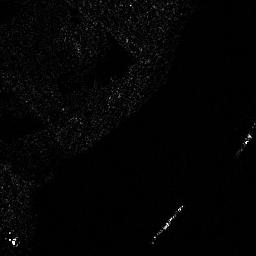ship: (153, 204, 184, 241)
